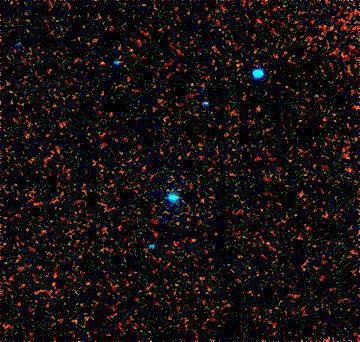star: (81, 48, 111, 78)
